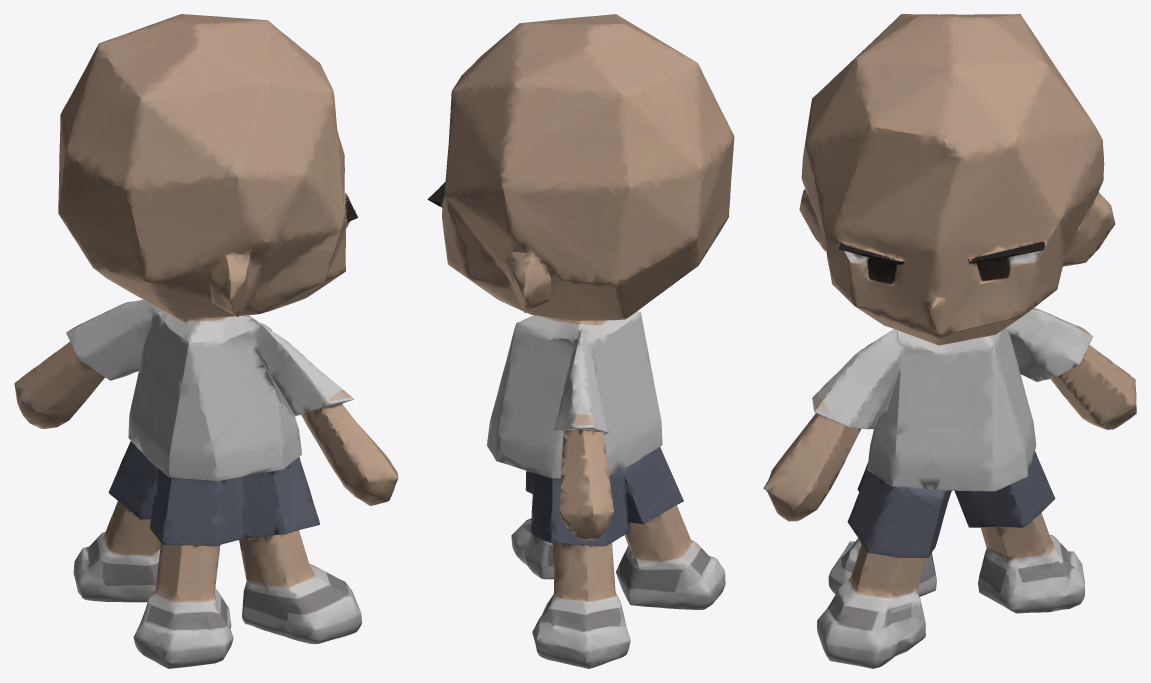
The model's file is dressed.glb.
The picture shows the model from 3 angles, left to right: view 1: azimuth 30°, elevation 25°; view 2: azimuth 150°, elevation 25°; view 3: azimuth 270°, elevation 25°; orthographic projection.
Parts seen in each view (by area): view 1: tripo_node_49d93a58-a97d-4455-9922-cc711d3215d2; view 2: tripo_node_49d93a58-a97d-4455-9922-cc711d3215d2; view 3: tripo_node_49d93a58-a97d-4455-9922-cc711d3215d2.
Boxes of the visible parts, x1,y1,x2,y2 form: tripo_node_49d93a58-a97d-4455-9922-cc711d3215d2: (14, 14, 398, 668); tripo_node_49d93a58-a97d-4455-9922-cc711d3215d2: (427, 14, 734, 668); tripo_node_49d93a58-a97d-4455-9922-cc711d3215d2: (763, 14, 1136, 668).
Size of the model in its own units: 0.48 by 1 by 0.5664.
Materials: 1 (1 with a texture image).
